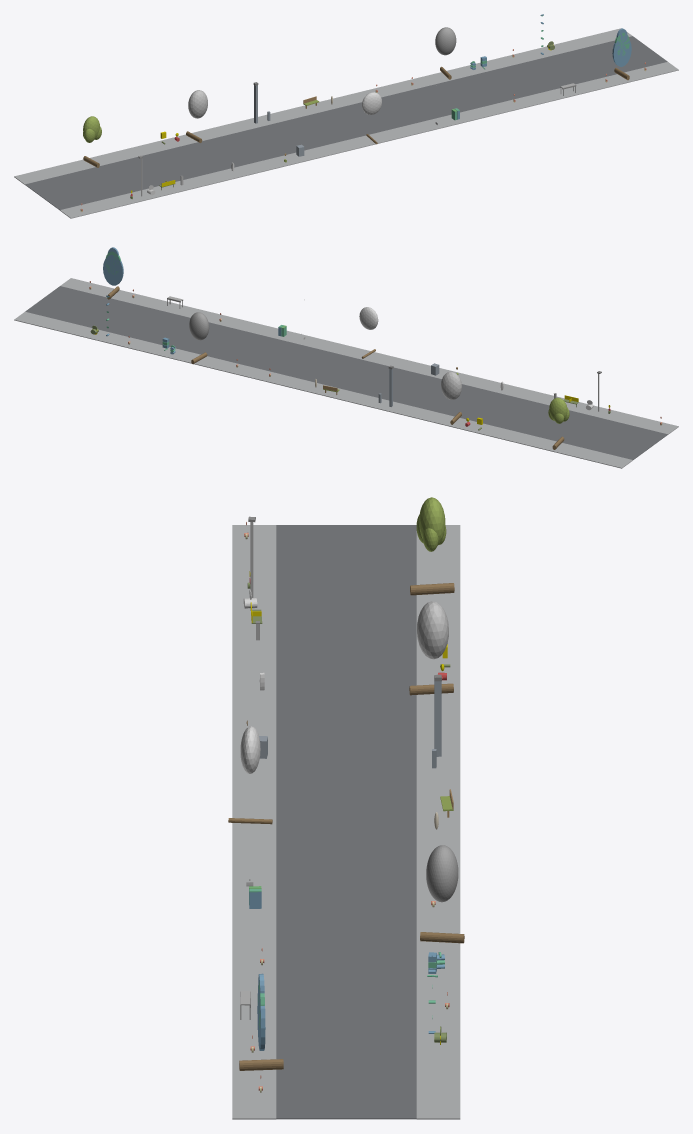
3 renders of one model, top to bottom at view 1: azimuth 30°, elevation 25°; view 2: azimuth 150°, elevation 25°; view 3: azimuth 270°, elevation 25°, orthographic. The views are drawn at different scales.
Parts seen in each view (by area): view 1: road_slab, sidewalk_left, sidewalk_right, inst_0016, inst_0013, inst_0015, inst_0012, inst_0014; view 2: road_slab, sidewalk_right, sidewalk_left, inst_0016, inst_0013, inst_0015, inst_0012, inst_0014; view 3: road_slab, sidewalk_left, sidewalk_right, inst_0015, inst_0013, inst_0012, inst_0016, inst_0014.
Part boxes in pixels (x1,y1,x2,y2): road_slab: (25, 36, 667, 210); sidewalk_left: (60, 62, 678, 218); sidewalk_right: (14, 28, 632, 184); inst_0016: (612, 28, 631, 80); inst_0013: (186, 90, 207, 142); inst_0015: (435, 27, 456, 79); inst_0012: (83, 116, 101, 167); inst_0014: (362, 92, 381, 144); road_slab: (25, 286, 667, 459); sidewalk_right: (14, 311, 632, 468); sidewalk_left: (60, 278, 678, 434); inst_0016: (103, 247, 123, 299); inst_0013: (441, 371, 461, 424); inst_0015: (189, 312, 209, 363); inst_0012: (548, 397, 569, 449); inst_0014: (359, 307, 378, 358); road_slab: (276, 525, 416, 1119); sidewalk_left: (232, 525, 276, 1119); sidewalk_right: (416, 525, 460, 1119); inst_0015: (420, 845, 464, 943); inst_0013: (409, 601, 453, 695); inst_0012: (410, 497, 454, 595); inst_0016: (239, 973, 283, 1070); inst_0014: (228, 726, 272, 824).
Size of the model in its own units: 80 by 6.08 by 13.45.
